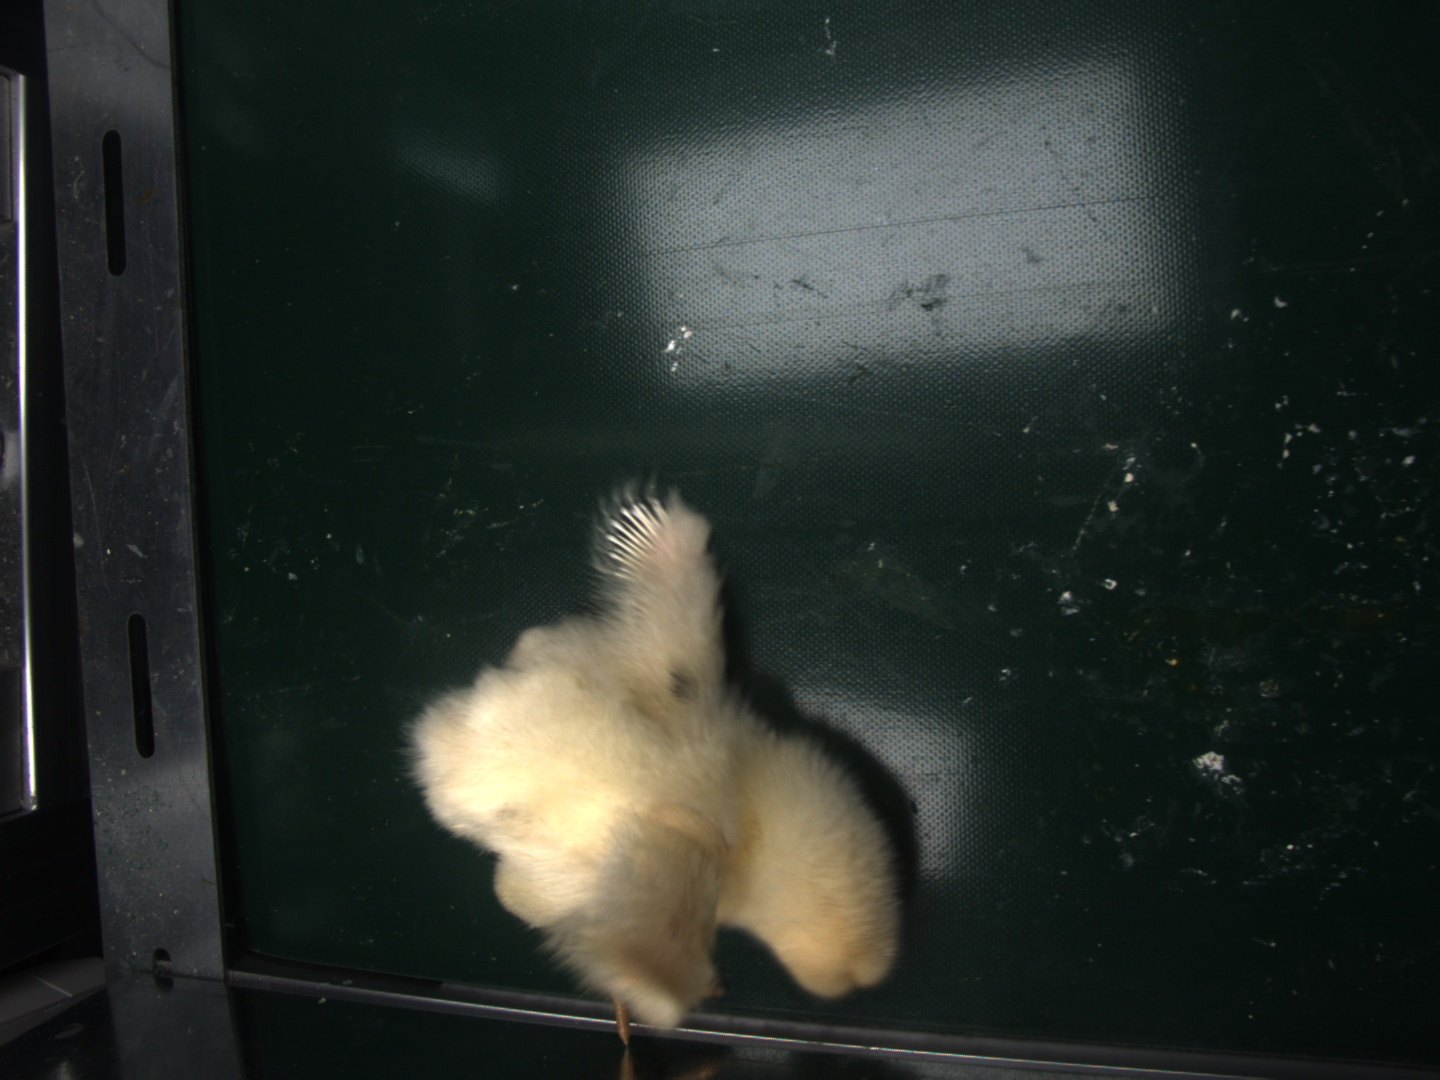male: (601, 495, 669, 577)
